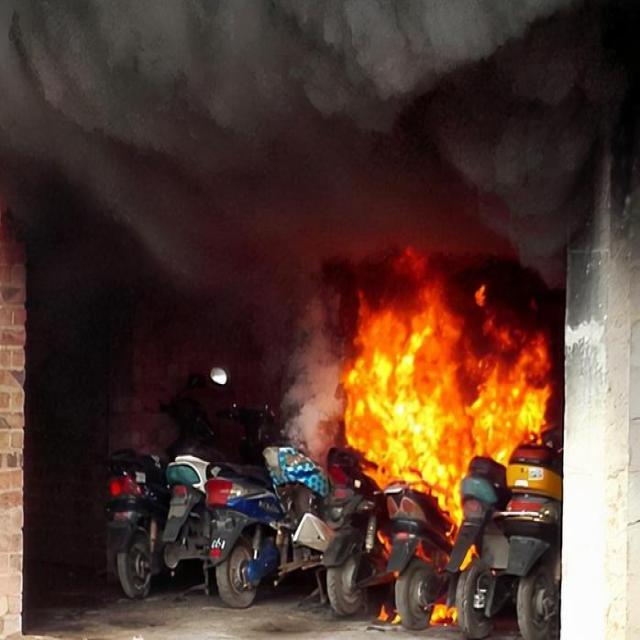Fire: (343, 250, 550, 479), (434, 482, 463, 537), (432, 598, 459, 629)
Smoke: (6, 0, 640, 254), (268, 254, 343, 461)
